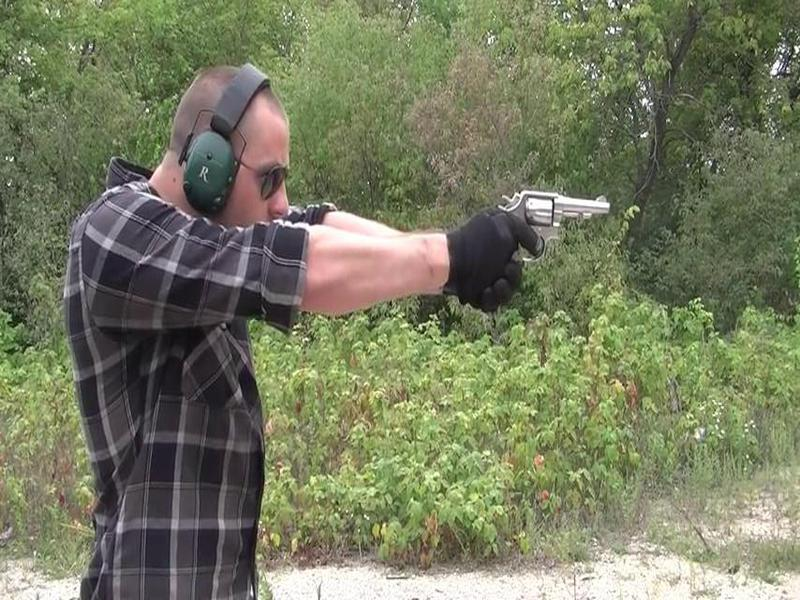Revolver: (502, 181, 610, 283)
